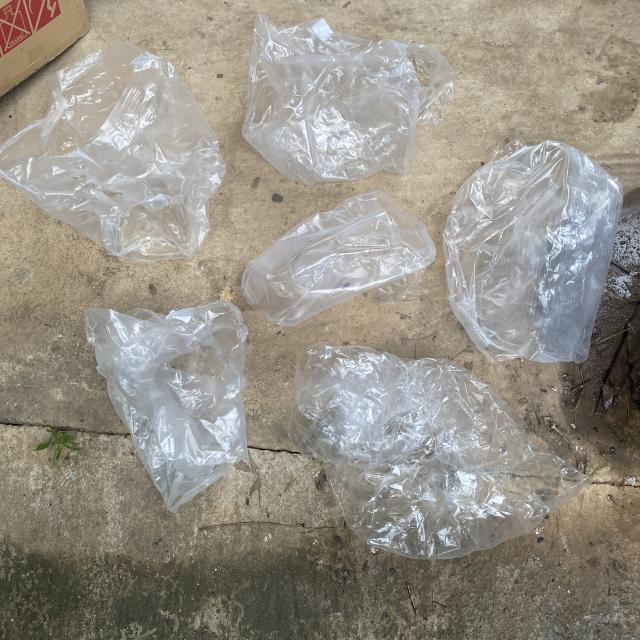Single-layer Plastic: (289, 344, 591, 559), (0, 42, 225, 261), (444, 140, 622, 362), (242, 14, 455, 184), (85, 301, 248, 512), (241, 190, 436, 326)
